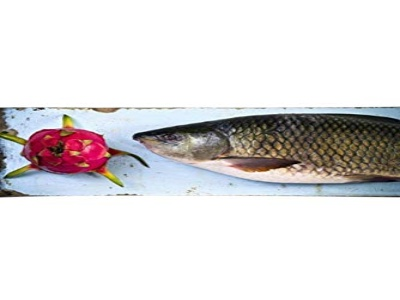rohu: (131, 111, 400, 186)
